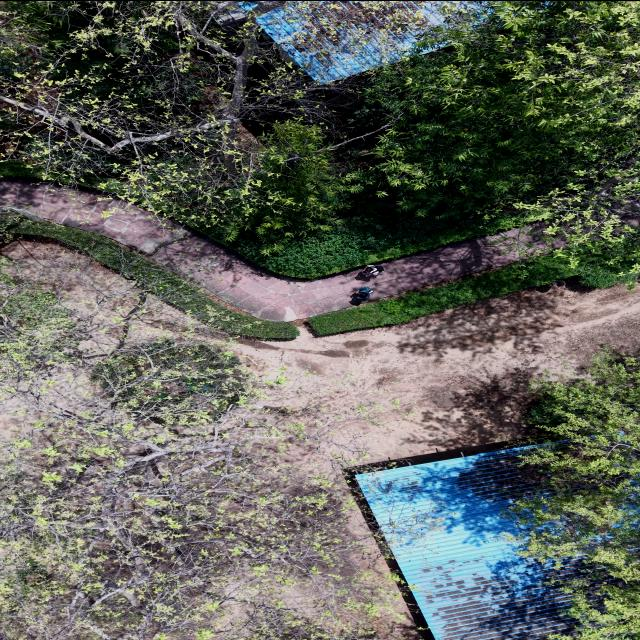DRY_AREA: (231, 281, 639, 584), (232, 281, 639, 583), (234, 282, 639, 583), (234, 282, 639, 576), (0, 178, 559, 320), (234, 280, 639, 466), (235, 280, 639, 459), (235, 282, 639, 460), (238, 283, 639, 460), (0, 239, 213, 358), (0, 239, 211, 341), (0, 178, 197, 259)
ROOFTOP_BUILDING: (355, 445, 580, 639), (355, 445, 579, 639), (257, 1, 445, 83)
VEGETATION_TREE: (0, 1, 639, 333), (0, 1, 638, 276), (0, 260, 418, 639), (0, 261, 402, 639), (232, 1, 638, 333), (232, 1, 638, 276), (2, 1, 397, 253), (0, 1, 342, 243), (0, 207, 298, 338), (0, 212, 298, 338), (513, 349, 639, 639), (310, 239, 639, 334), (310, 255, 572, 334)
